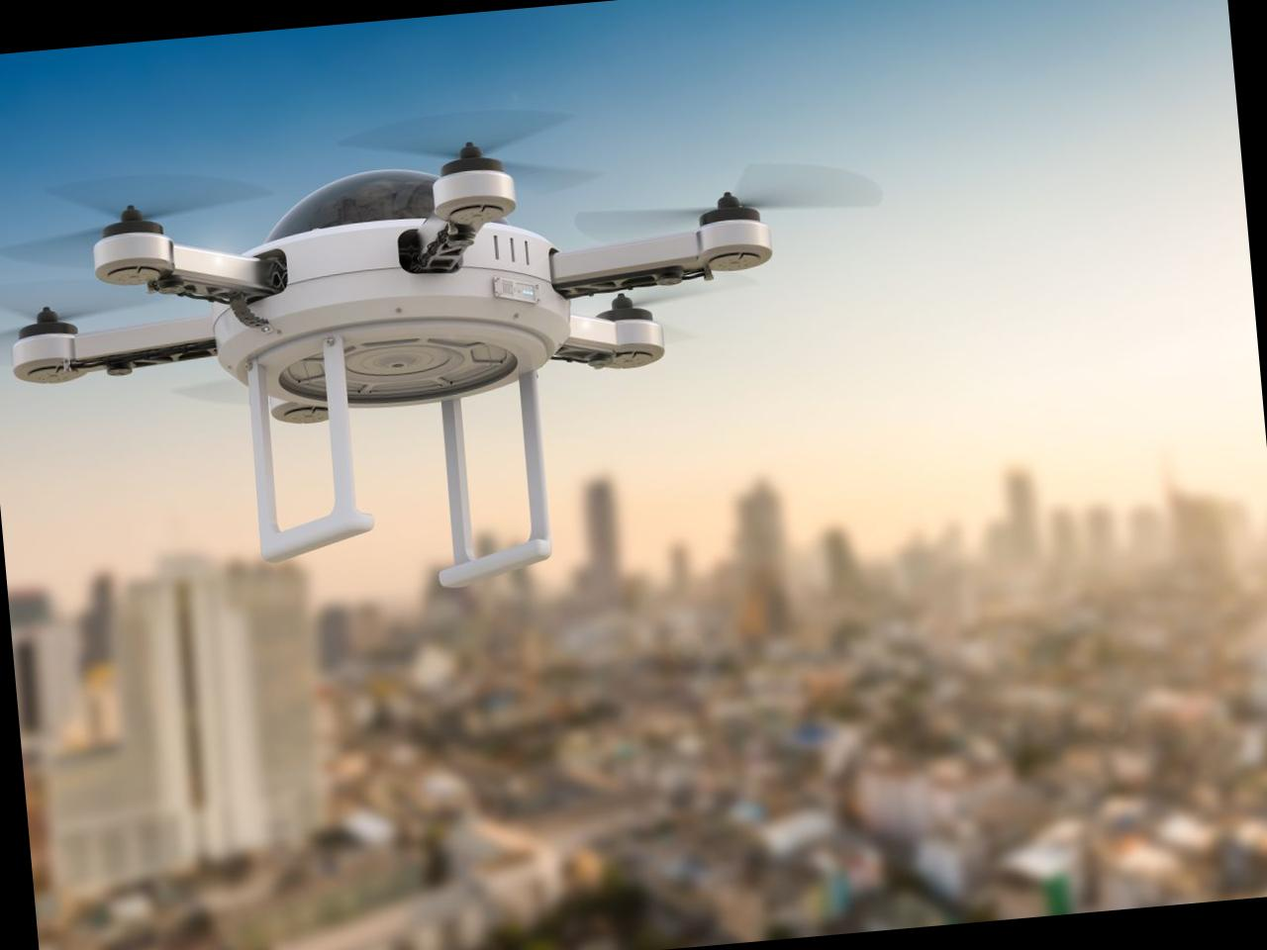drone: (0, 95, 889, 520)
